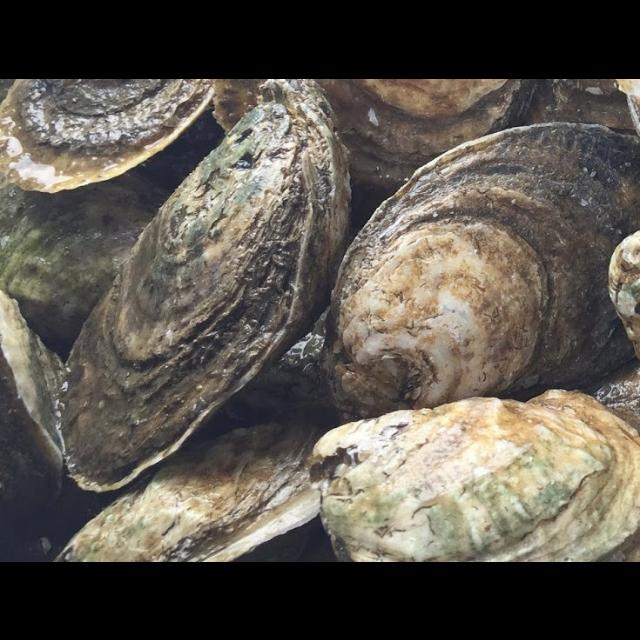Oyster-Closed: (55, 78, 352, 492), (322, 121, 640, 426), (312, 388, 640, 561), (55, 420, 331, 561), (0, 169, 171, 346), (308, 78, 537, 190), (0, 78, 219, 192), (187, 306, 339, 448), (0, 290, 65, 549), (519, 78, 636, 128), (607, 231, 640, 363)
